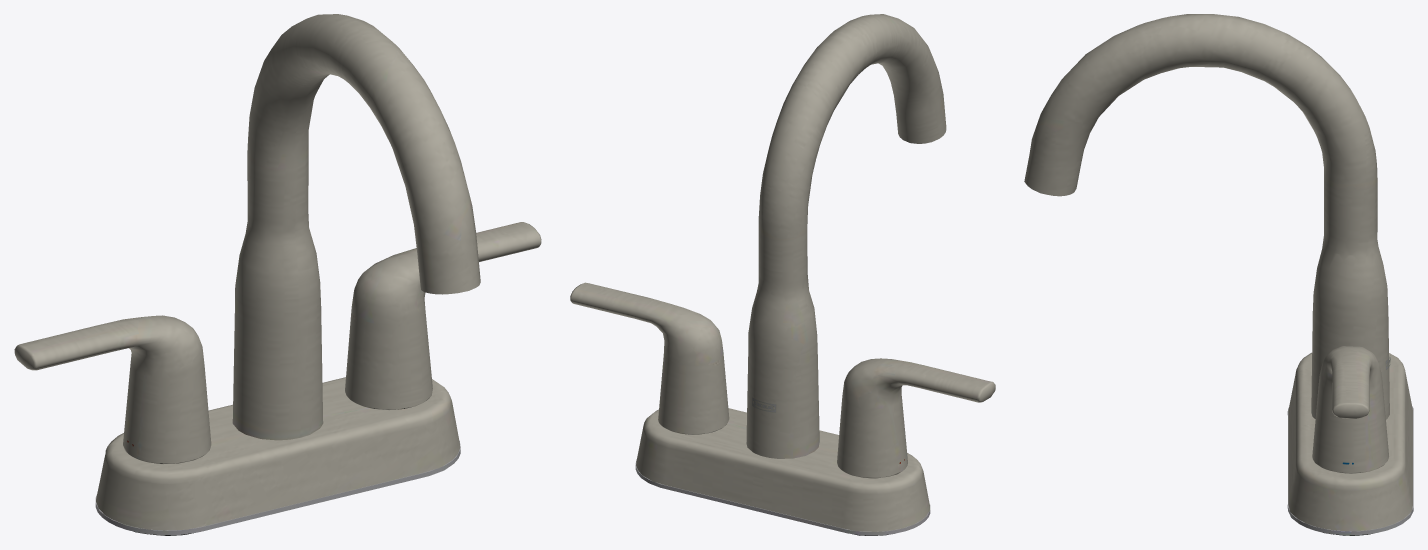
The model's file is macksjoen_centerset_sink_faucet_brushed_.glb.
The picture shows the model from 3 angles, left to right: view 1: azimuth 30°, elevation 25°; view 2: azimuth 150°, elevation 25°; view 3: azimuth 270°, elevation 25°; orthographic projection. The views are drawn at different scales.
Parts seen in each view (by area): view 1: ASY_ART_60604422_S01_NV01; view 2: ASY_ART_60604422_S01_NV01; view 3: ASY_ART_60604422_S01_NV01.
Part boxes in pixels (<box>): ASY_ART_60604422_S01_NV01: <box>14,14,541,535</box>; ASY_ART_60604422_S01_NV01: <box>570,14,995,535</box>; ASY_ART_60604422_S01_NV01: <box>1024,14,1413,535</box>.
Size of the model in its own units: 0.2359 by 0.2268 by 0.1779.
2 materials, 2 textured.
